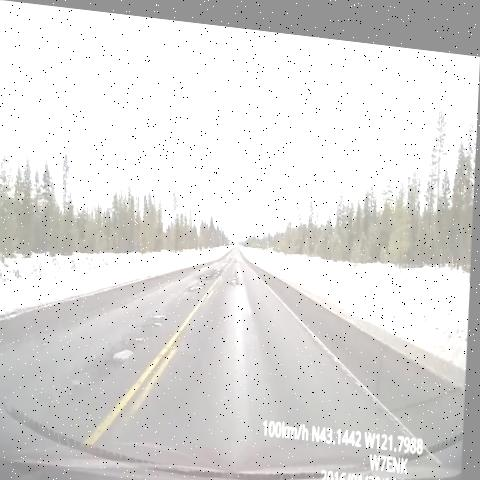pothole: (107, 329, 146, 379), (145, 299, 173, 337), (204, 252, 229, 280), (190, 270, 212, 296), (228, 259, 249, 286), (222, 246, 243, 266)
